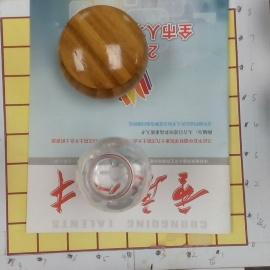bottle: (75, 137, 151, 212)
chess: (59, 4, 149, 97)
